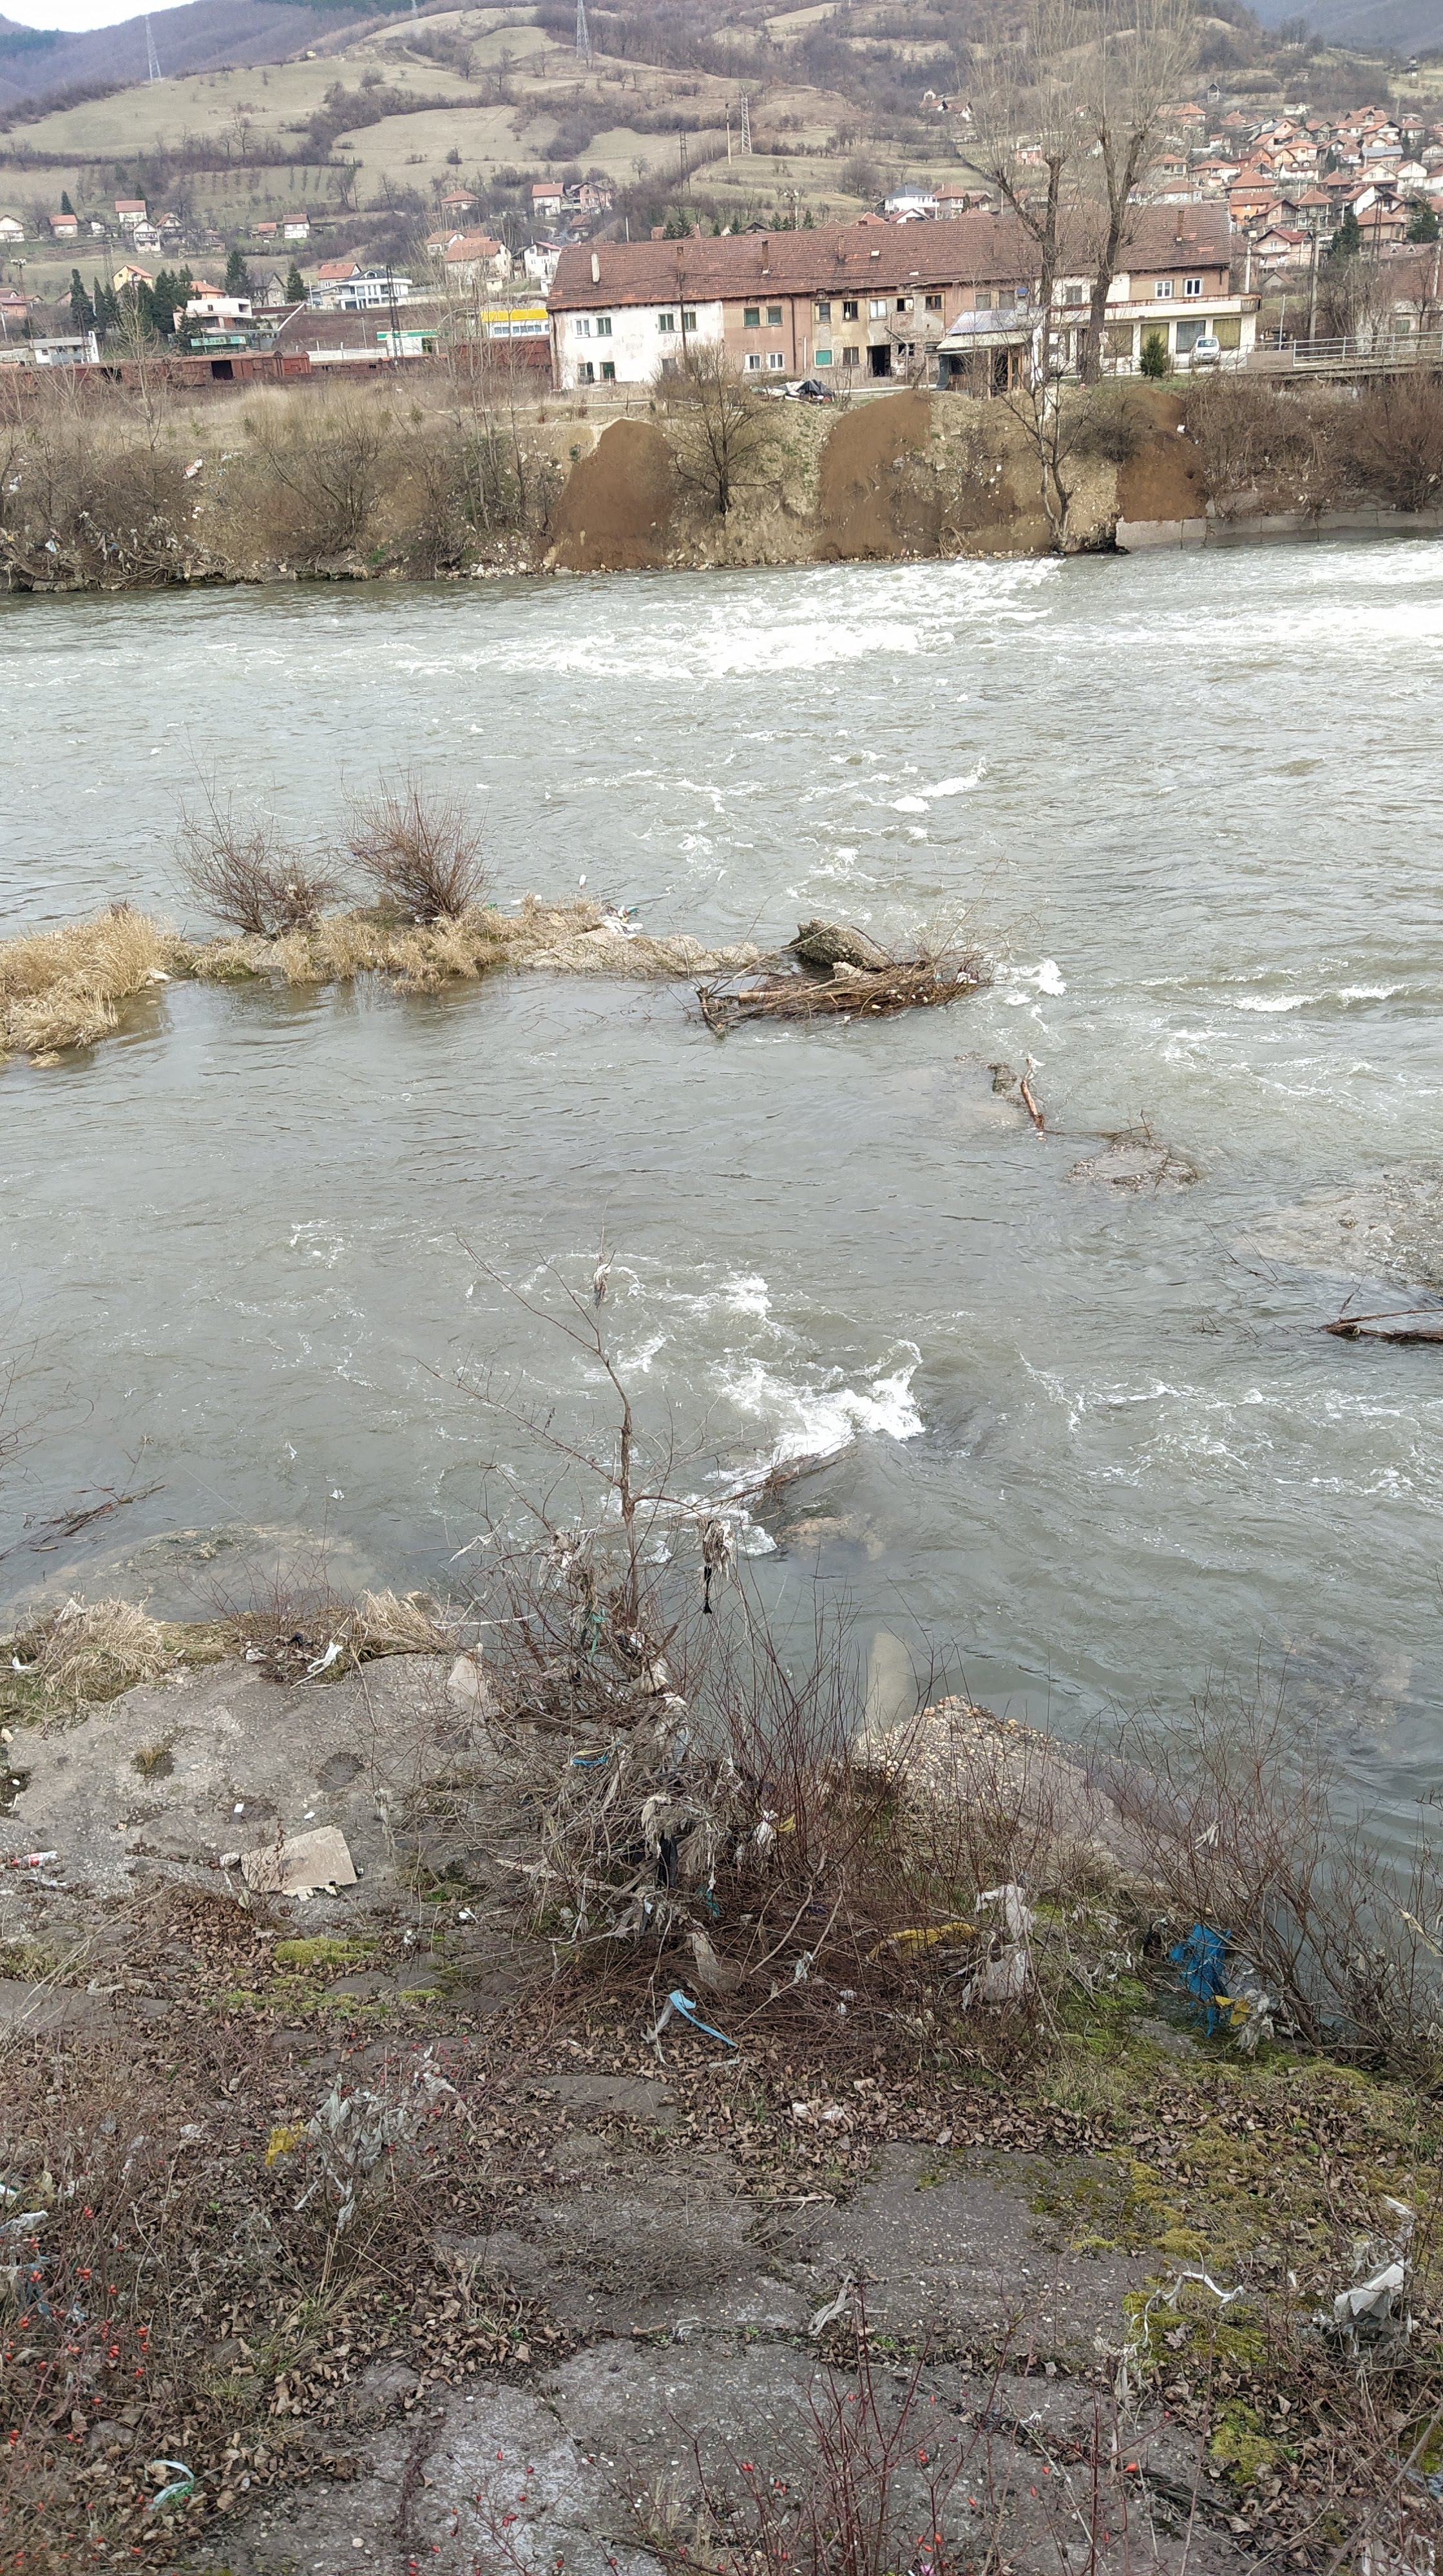Plastic Bottle: (625, 906, 636, 915), (614, 922, 623, 932), (579, 874, 586, 886), (629, 924, 643, 929), (510, 899, 521, 904), (535, 893, 542, 901), (489, 902, 498, 908), (621, 922, 629, 927), (620, 904, 625, 909), (618, 909, 621, 916)
